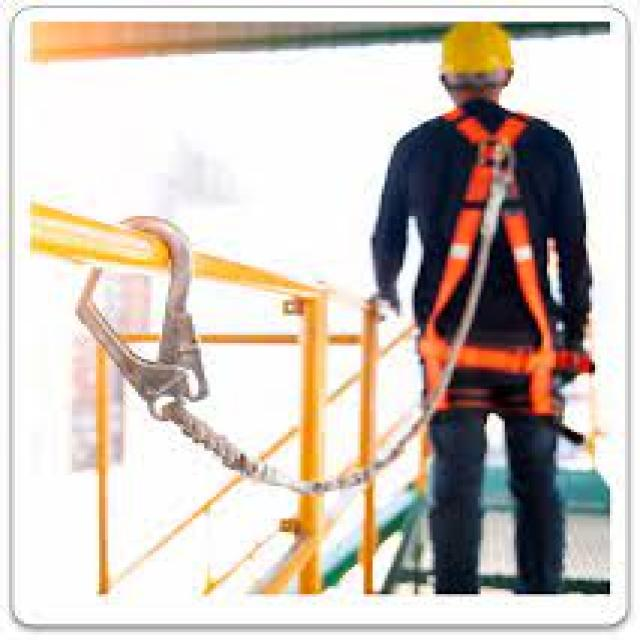harness: (65, 144, 532, 496)
